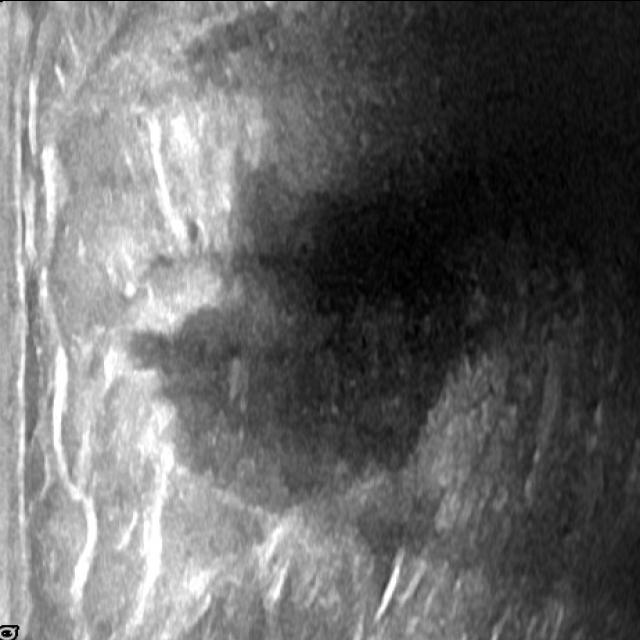Malignant: (158, 266, 420, 487)
